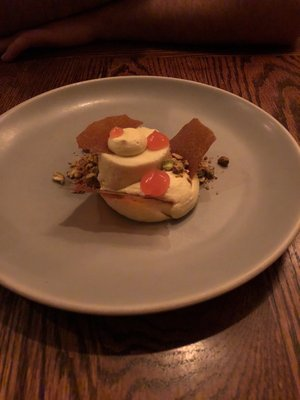curry: (0, 74, 300, 398)
